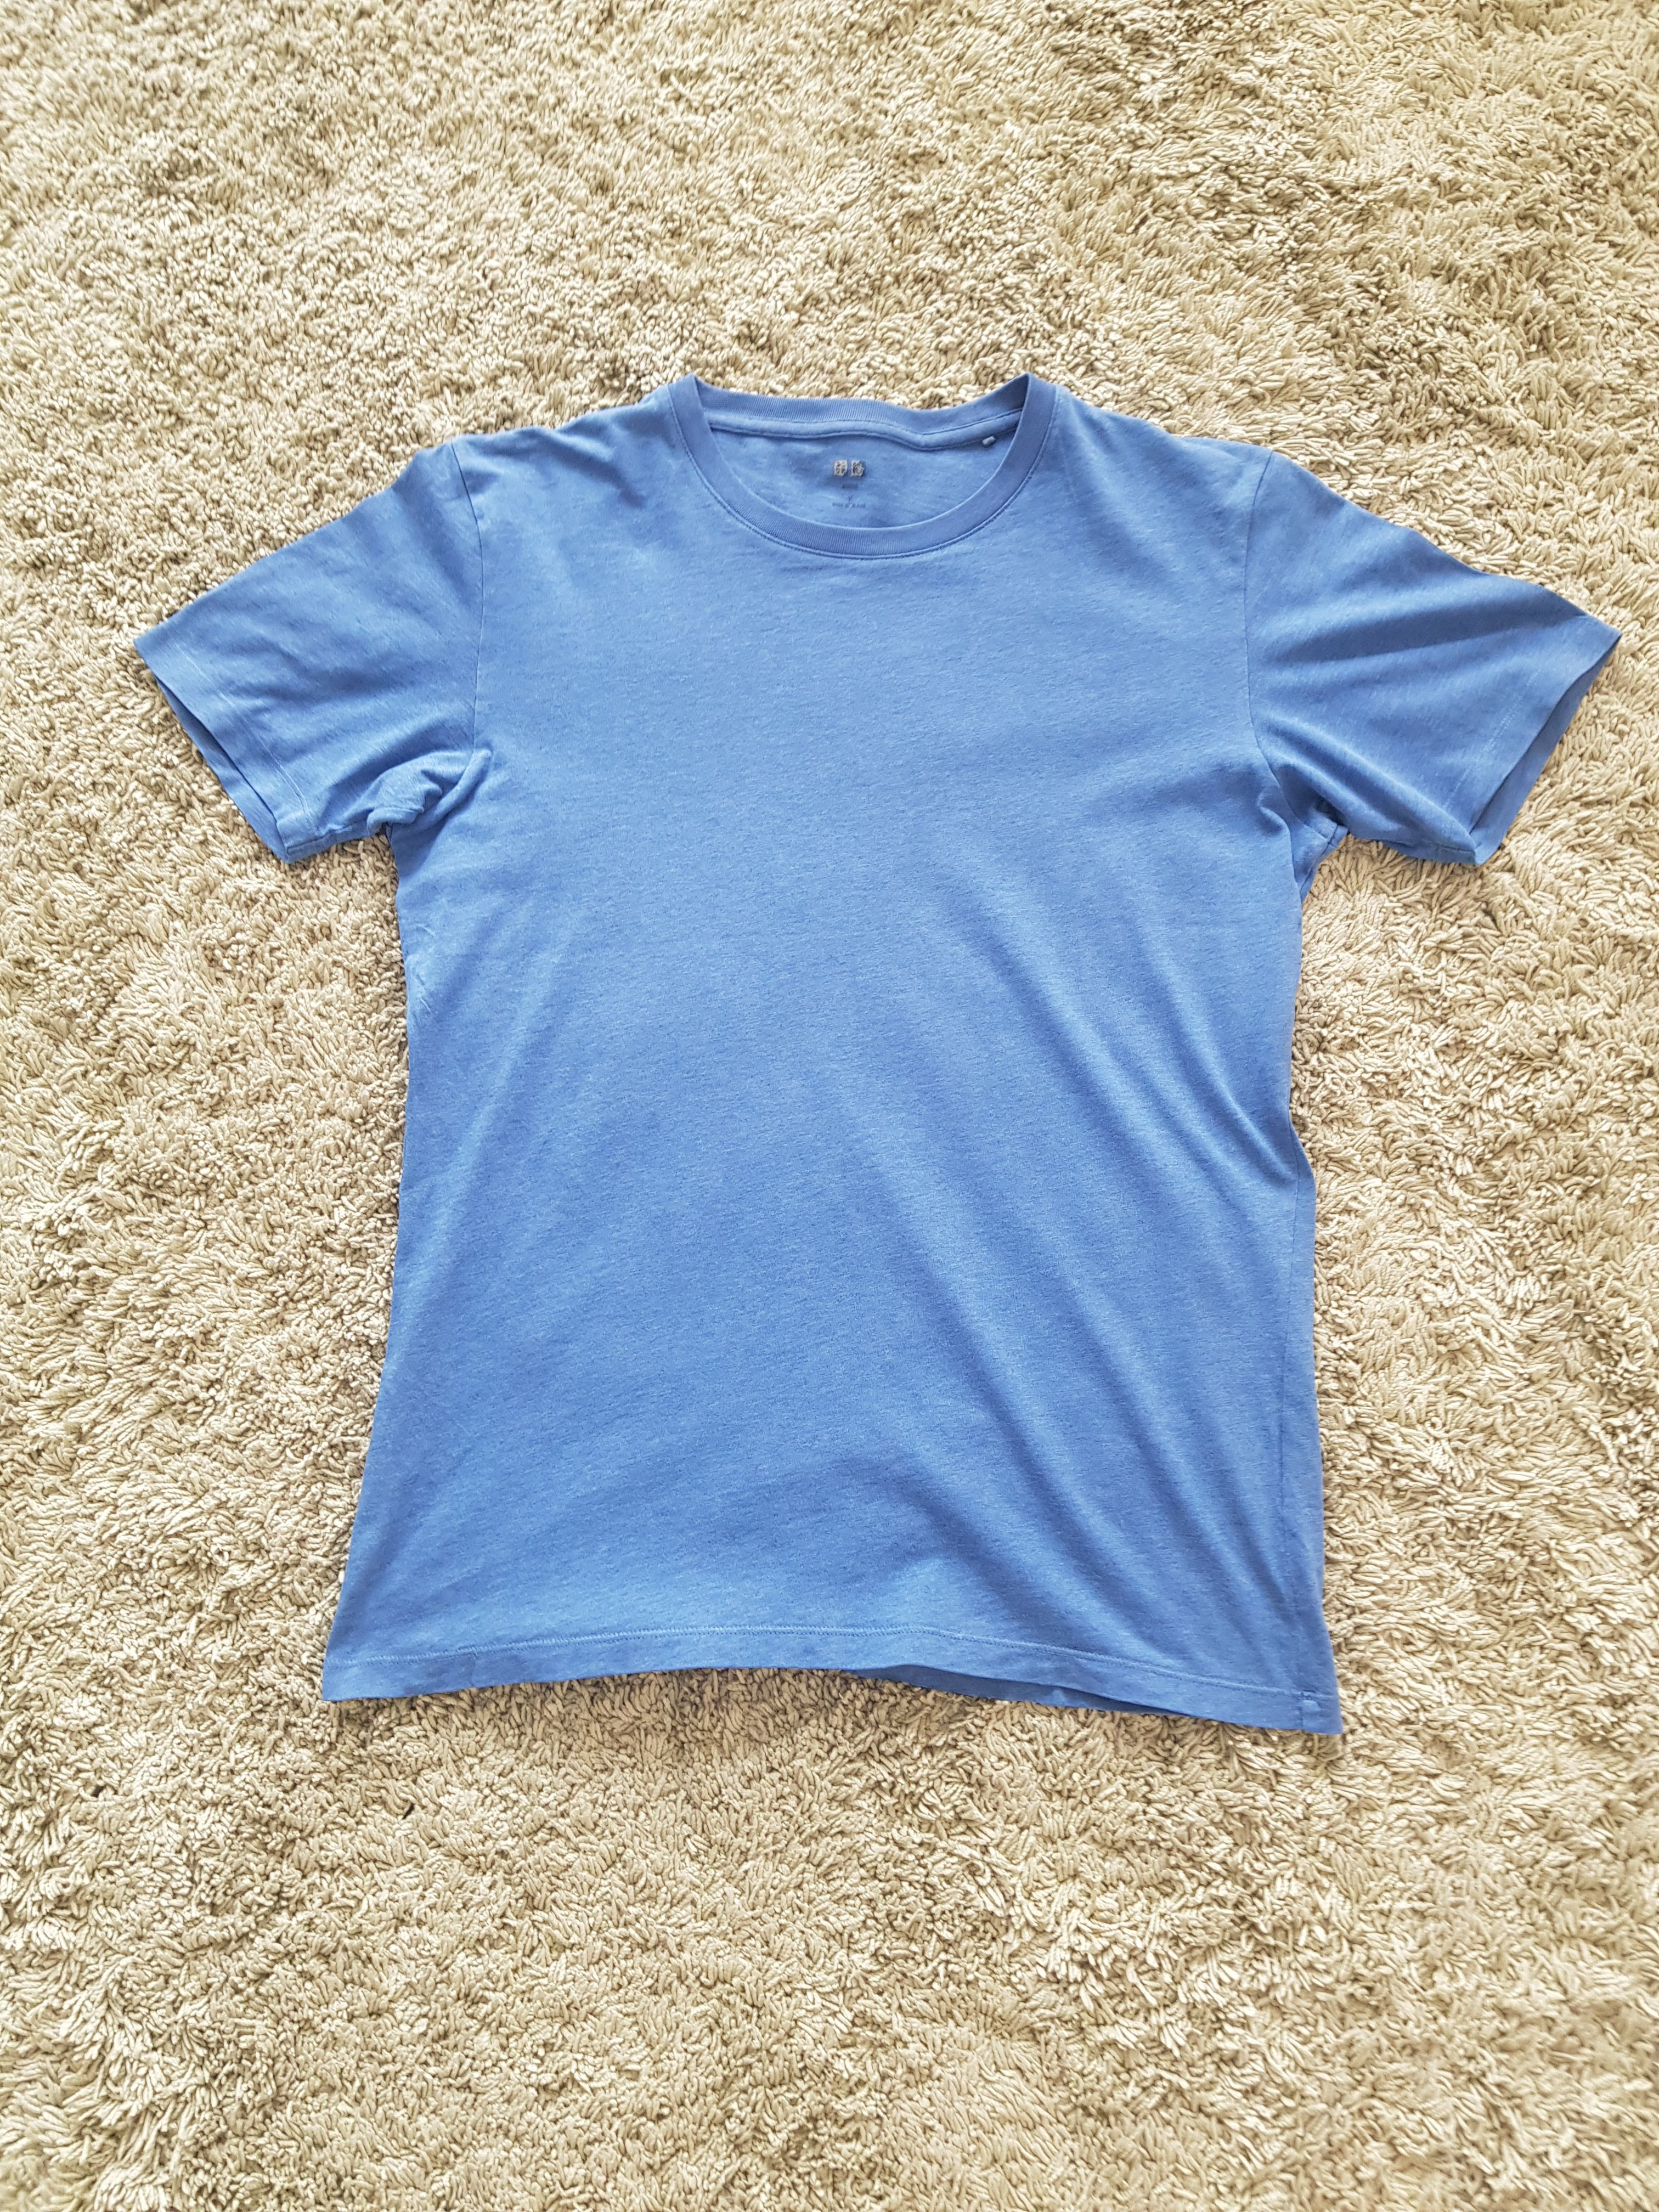clothes: (134, 369, 1610, 1745)
